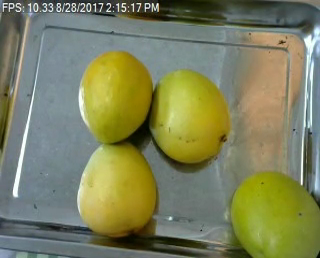Mango: (141, 62, 235, 163), (75, 143, 162, 237), (226, 168, 319, 255), (79, 48, 153, 150)
